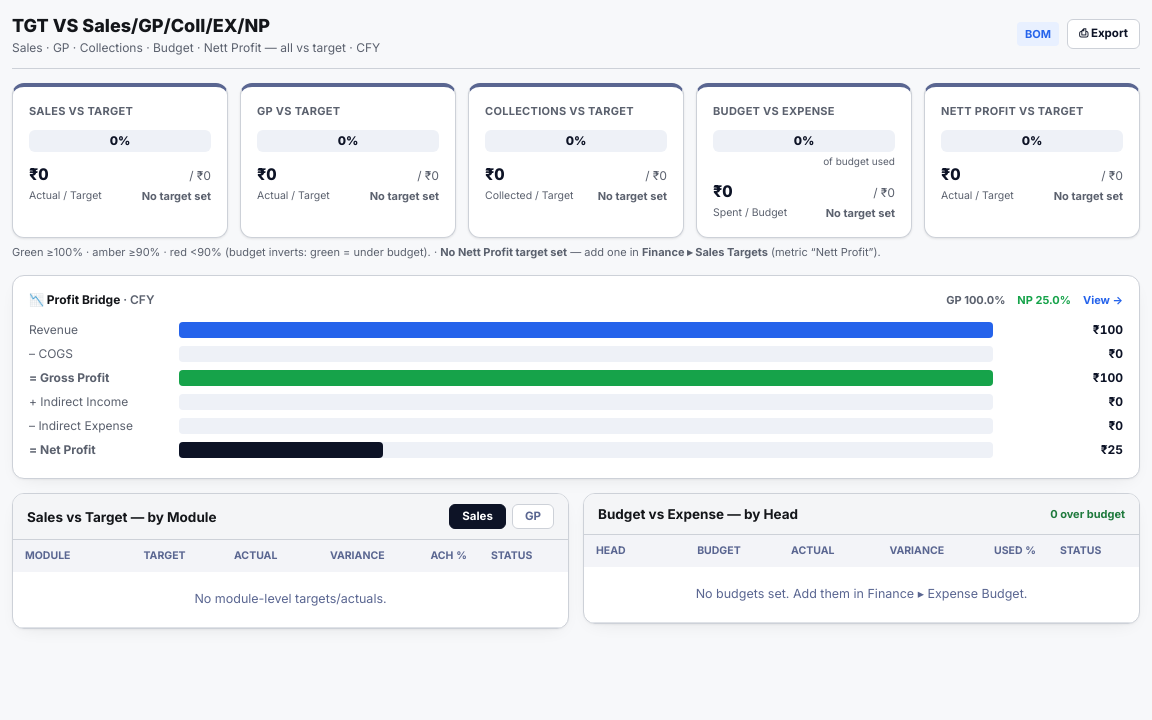
Test: Performance vs Target — consolidated dashboard › module table toggles Sales ⇄ GP
Expected: the text "Sales vs Target — by Module" is shown, [27,506,216,527]
Click the button "GP" at (533, 517), box [512,504,554,529]
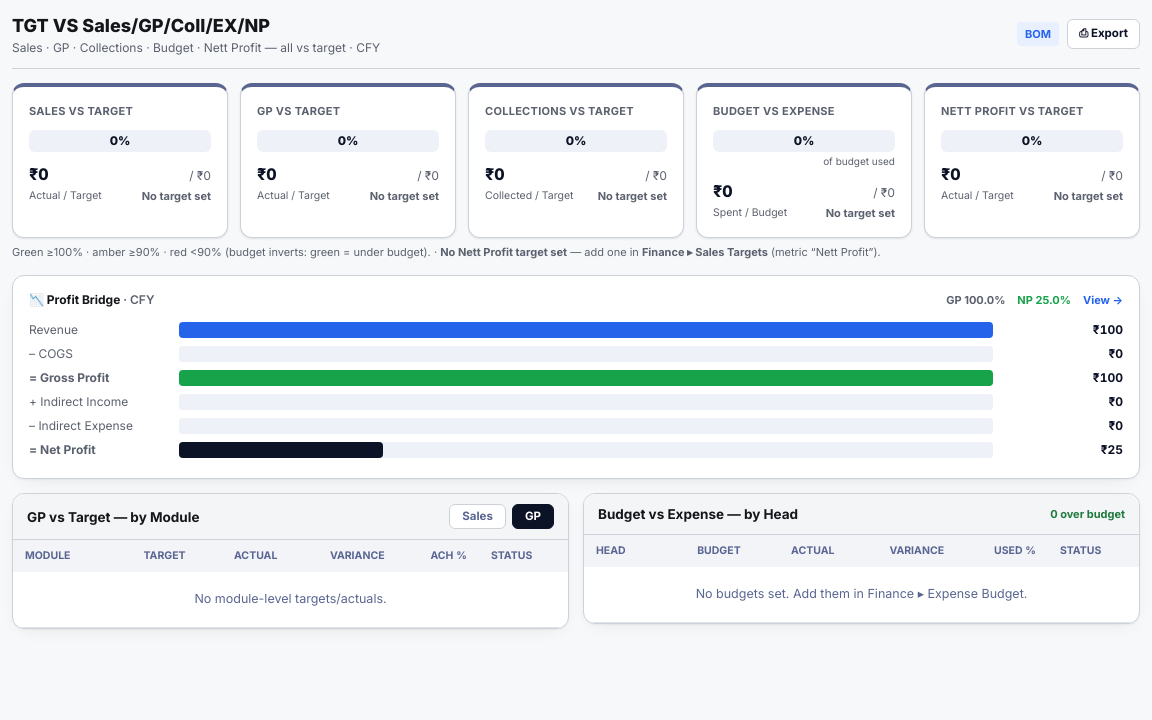
Now the text "GP vs Target — by Module" is shown, box [27,506,199,527]
